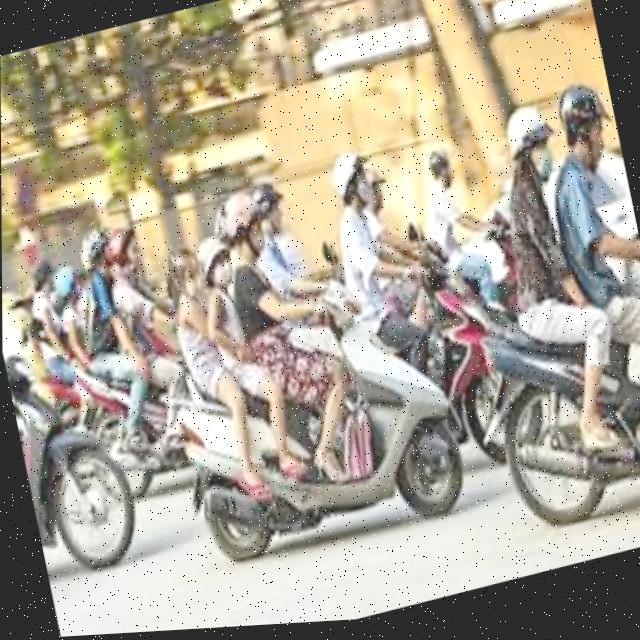motorcycle: (156, 270, 473, 582), (474, 279, 640, 540), (2, 321, 144, 590)
